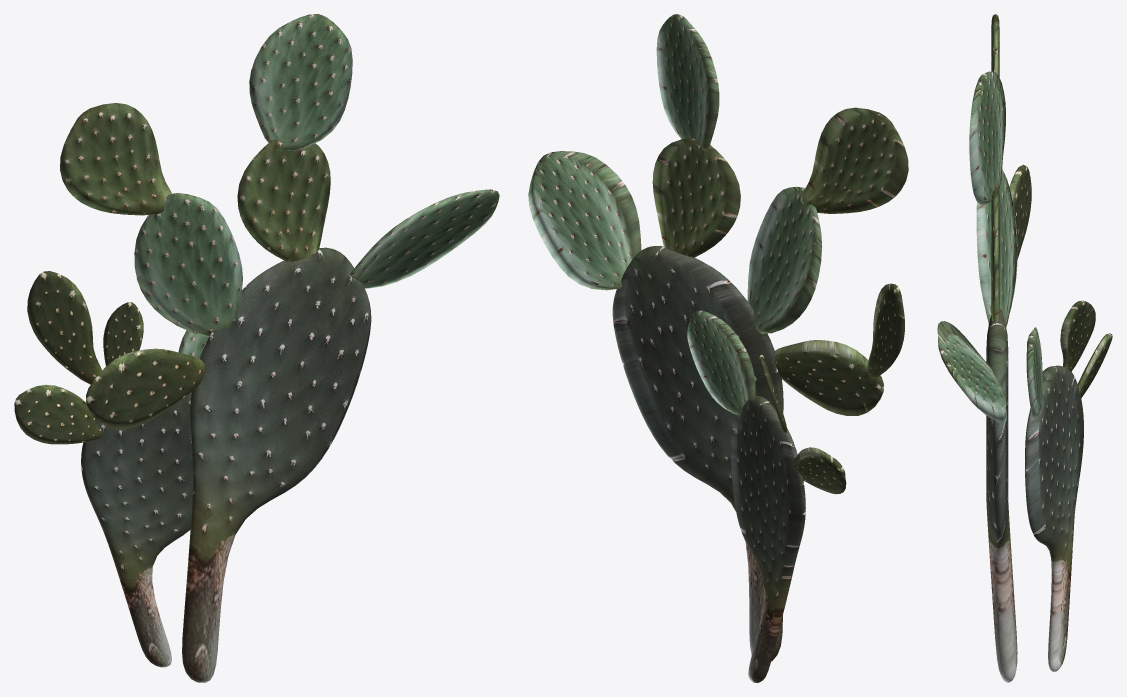
The model's file is prickly pear.fbx.
3 renders of one model, left to right at view 1: azimuth 30°, elevation 25°; view 2: azimuth 150°, elevation 25°; view 3: azimuth 270°, elevation 25°, orthographic. The views are drawn at different scales.
Visible parts, largest first — view 1: prickly pear cactus; view 2: prickly pear cactus; view 3: prickly pear cactus.
Boxes of the visible parts, x1,y1,x2,y2 form: prickly pear cactus: (14,14,499,682); prickly pear cactus: (528,14,908,682); prickly pear cactus: (937,14,1112,682).
Size of the model in its own units: 303 by 438 by 106.
Materials: 1 (1 with a texture image).
